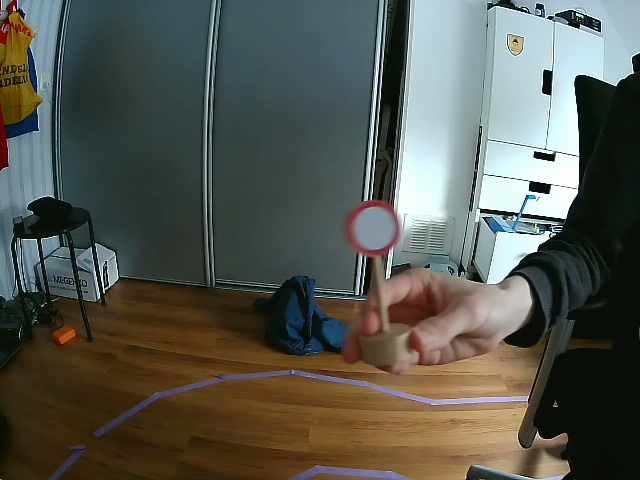wegdicht: (348, 201, 400, 258)
